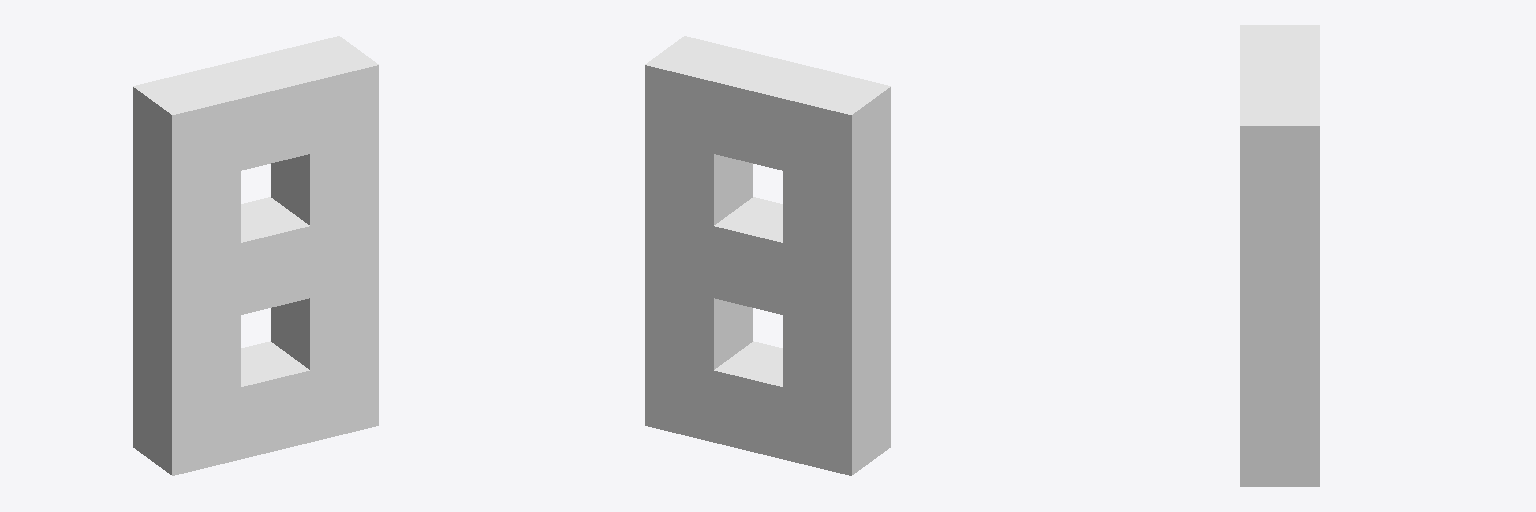
Rendered from digit_8_p.obj.
3 renders of one model, left to right at view 1: azimuth 30°, elevation 25°; view 2: azimuth 150°, elevation 25°; view 3: azimuth 270°, elevation 25°, orthographic.
Visible parts, largest first — view 1: object 1; view 2: object 1; view 3: object 1.
Boxes of the visible parts, <box> form: object 1: <box>133,36,378,475</box>; object 1: <box>645,36,890,475</box>; object 1: <box>1240,25,1319,486</box>.
Bounding box in the file's own units: 0.6 × 1 × 0.2.